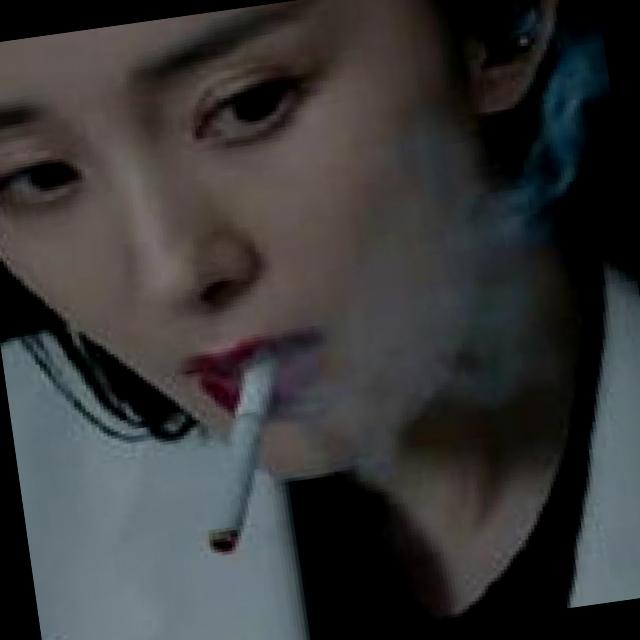smoke: (178, 354, 304, 565)
